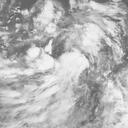cyclone: (40, 44, 89, 92)
